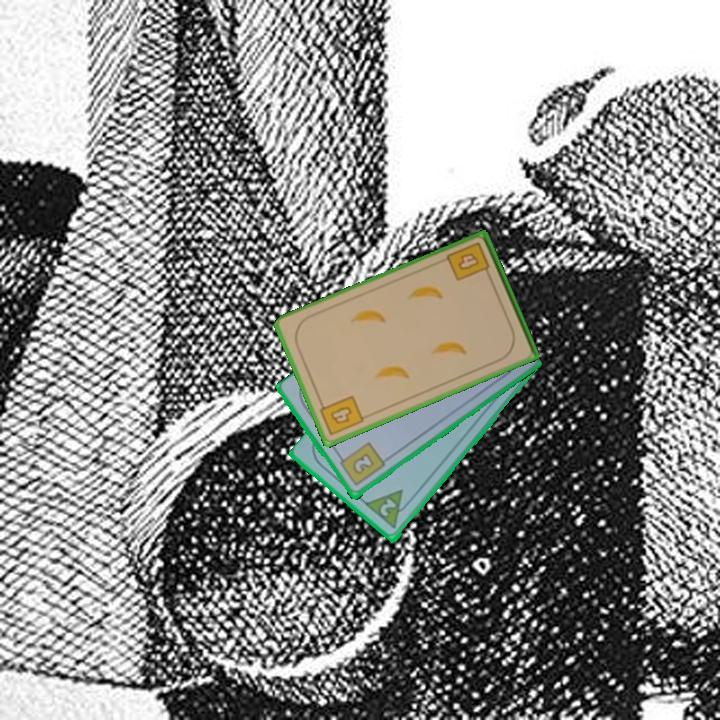2b: (334, 439, 388, 489)
2p: (363, 486, 416, 532)
4b: (315, 392, 367, 439), (443, 239, 493, 284)
